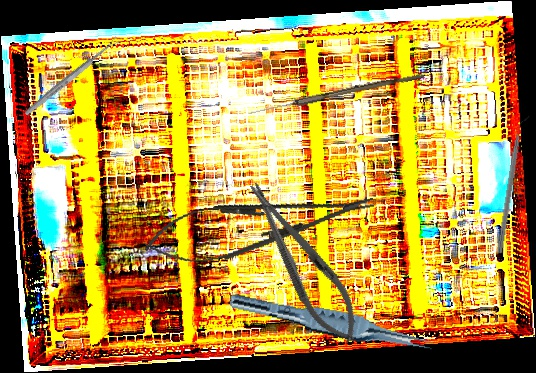Chopper: (496, 113, 532, 256)
Needle Holder: (234, 171, 372, 353), (139, 176, 380, 275)
Surgical Spoon: (247, 69, 425, 119), (23, 35, 121, 118)
Tissue Forceps: (227, 292, 436, 356)
